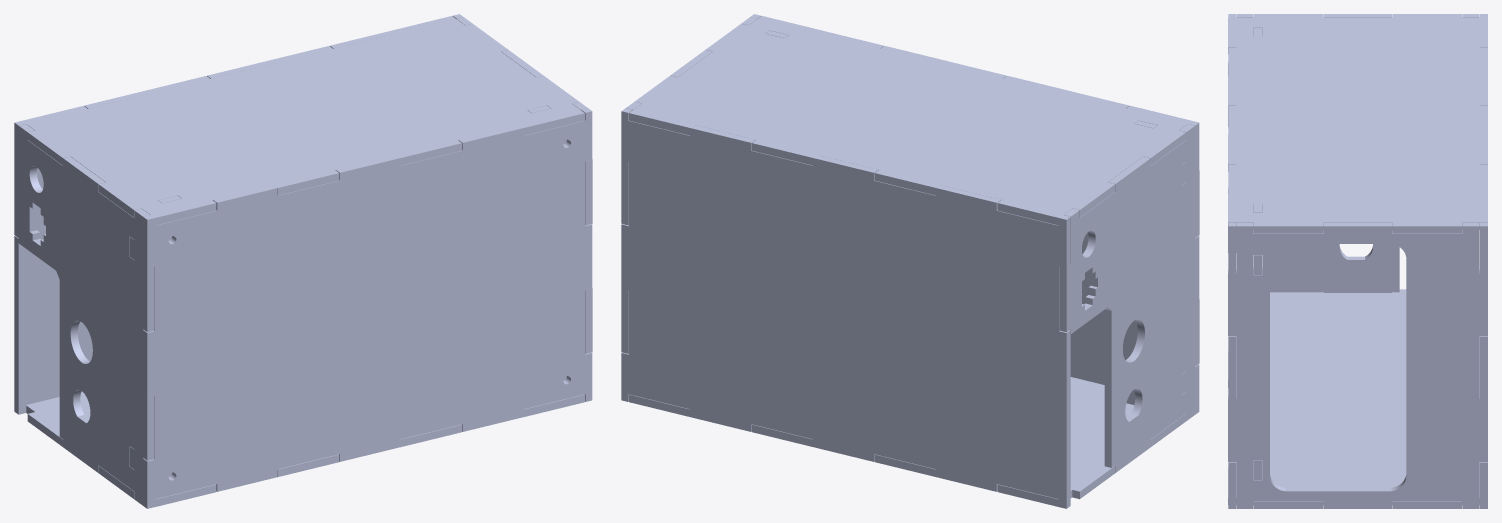
File: multibody.step.glb
3 views of the same model, side by side, from view 1: azimuth 30°, elevation 25°; view 2: azimuth 150°, elevation 25°; view 3: azimuth 270°, elevation 25° (orthographic). The views are drawn at different scales.
Parts seen in each view (by area): view 1: NAUO10, NAUO3, NAUO4, NAUO1, NAUO2, NAUO5; view 2: NAUO1, NAUO3, NAUO4, NAUO2, NAUO10, NAUO5; view 3: NAUO3, NAUO5, NAUO2, NAUO4, NAUO1, NAUO10.
Boxes of the visible parts, bbox=[...] form: NAUO10: bbox=[143, 108, 592, 508]; NAUO3: bbox=[23, 16, 584, 225]; NAUO4: bbox=[14, 124, 154, 505]; NAUO1: bbox=[14, 14, 463, 414]; NAUO2: bbox=[26, 391, 584, 506]; NAUO5: bbox=[457, 17, 592, 353]; NAUO1: bbox=[621, 108, 1070, 508]; NAUO3: bbox=[629, 16, 1190, 225]; NAUO4: bbox=[1059, 124, 1199, 472]; NAUO2: bbox=[629, 377, 1186, 506]; NAUO10: bbox=[750, 14, 1199, 414]; NAUO5: bbox=[621, 17, 756, 353]; NAUO3: bbox=[1228, 14, 1487, 233]; NAUO5: bbox=[1228, 223, 1487, 508]; NAUO2: bbox=[1228, 289, 1479, 508]; NAUO4: bbox=[1228, 14, 1479, 292]; NAUO1: bbox=[1479, 14, 1487, 508]; NAUO10: bbox=[1228, 14, 1236, 508].
Bounding box in the file's own units: 0.1842 × 0.1143 × 0.0953.
